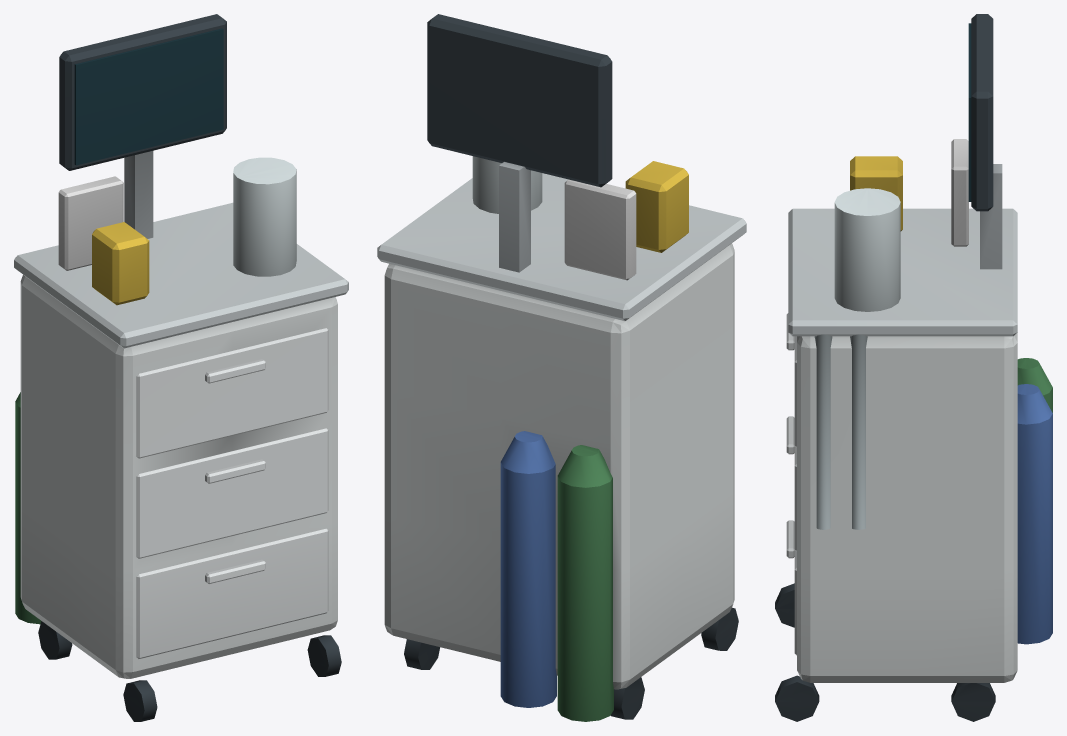
File: anesthesia.glb
3 renders of one model, left to right at view 1: azimuth 30°, elevation 25°; view 2: azimuth 150°, elevation 25°; view 3: azimuth 270°, elevation 25°, orthographic. The views are drawn at different scales.
Visible parts, largest first — view 1: body, drawers, top, screen, bellows, monitor, flowmeter, vaporizer, wheels, mast, gas_n2o; view 2: body, monitor, top, gas_n2o, gas, flowmeter, vaporizer, mast, wheels, bellows; view 3: body, top, gas, bellows, hoses, monitor, wheels, vaporizer, flowmeter, mast, drawers, gas_n2o (+1 smaller).
Boxes of the visible parts, left/top/right/bottom form: body: left=20, top=275, right=337, bottom=678; drawers: left=136, top=328, right=328, bottom=658; top: left=14, top=202, right=348, bottom=348; screen: left=74, top=28, right=223, bottom=165; bellows: left=233, top=157, right=296, bottom=276; monitor: left=59, top=14, right=226, bottom=170; flowmeter: left=58, top=176, right=123, bottom=270; vaporizer: left=92, top=222, right=149, bottom=305; wheels: left=38, top=621, right=341, bottom=721; mast: left=124, top=151, right=153, bottom=238; gas_n2o: left=15, top=392, right=41, bottom=624; body: left=384, top=243, right=734, bottom=689; monitor: left=427, top=14, right=612, bottom=187; top: left=377, top=173, right=746, bottom=320; gas_n2o: left=557, top=445, right=613, bottom=721; gas: left=500, top=431, right=556, bottom=707; flowmeter: left=564, top=179, right=636, bottom=280; vaporizer: left=625, top=161, right=688, bottom=252; mast: left=499, top=162, right=530, bottom=272; wheels: left=404, top=607, right=738, bottom=719; bellows: left=472, top=156, right=542, bottom=213; body: left=797, top=333, right=1017, bottom=682; top: left=788, top=208, right=1017, bottom=336; gas: left=1017, top=384, right=1052, bottom=644; bellows: left=834, top=188, right=900, bottom=311; hoses: left=814, top=334, right=867, bottom=529; monitor: left=971, top=14, right=993, bottom=211; wheels: left=775, top=583, right=995, bottom=721; vaporizer: left=850, top=156, right=902, bottom=231; flowmeter: left=951, top=139, right=968, bottom=246; mast: left=980, top=164, right=1002, bottom=269; drawers: left=786, top=313, right=796, bottom=655; gas_n2o: left=1017, top=358, right=1052, bottom=412.
Bounding box in the file's own units: 0.62 × 1.55 × 0.63.
